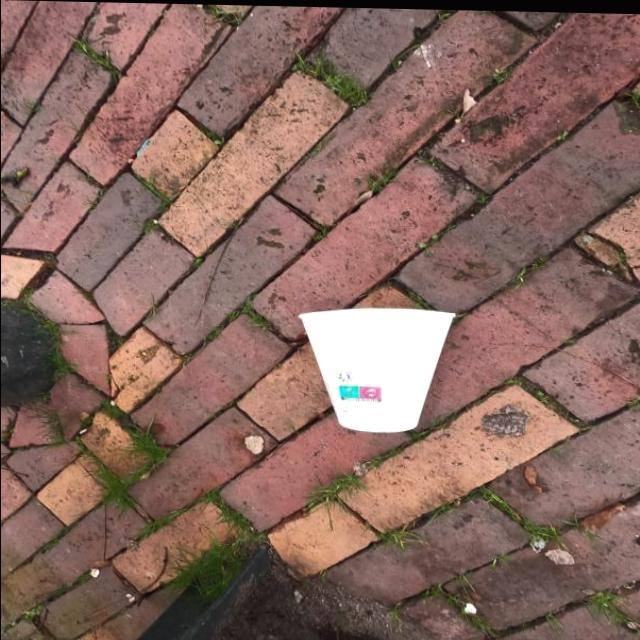Cup: (294, 301, 458, 434)
